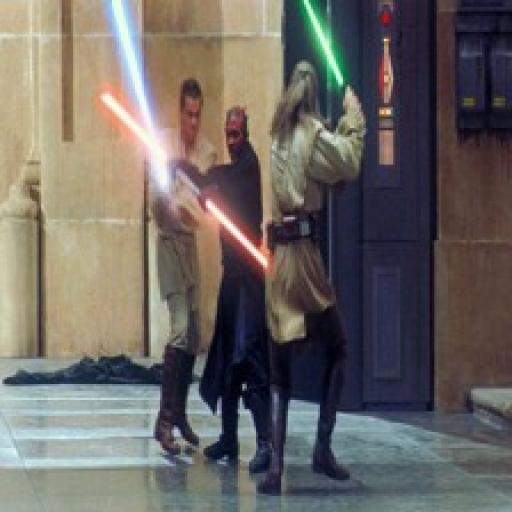human: (259, 54, 357, 484), (179, 104, 277, 479), (132, 85, 219, 456)
lightsaber: (103, 0, 178, 206), (298, 0, 370, 128)
sith saber: (100, 96, 270, 266)
